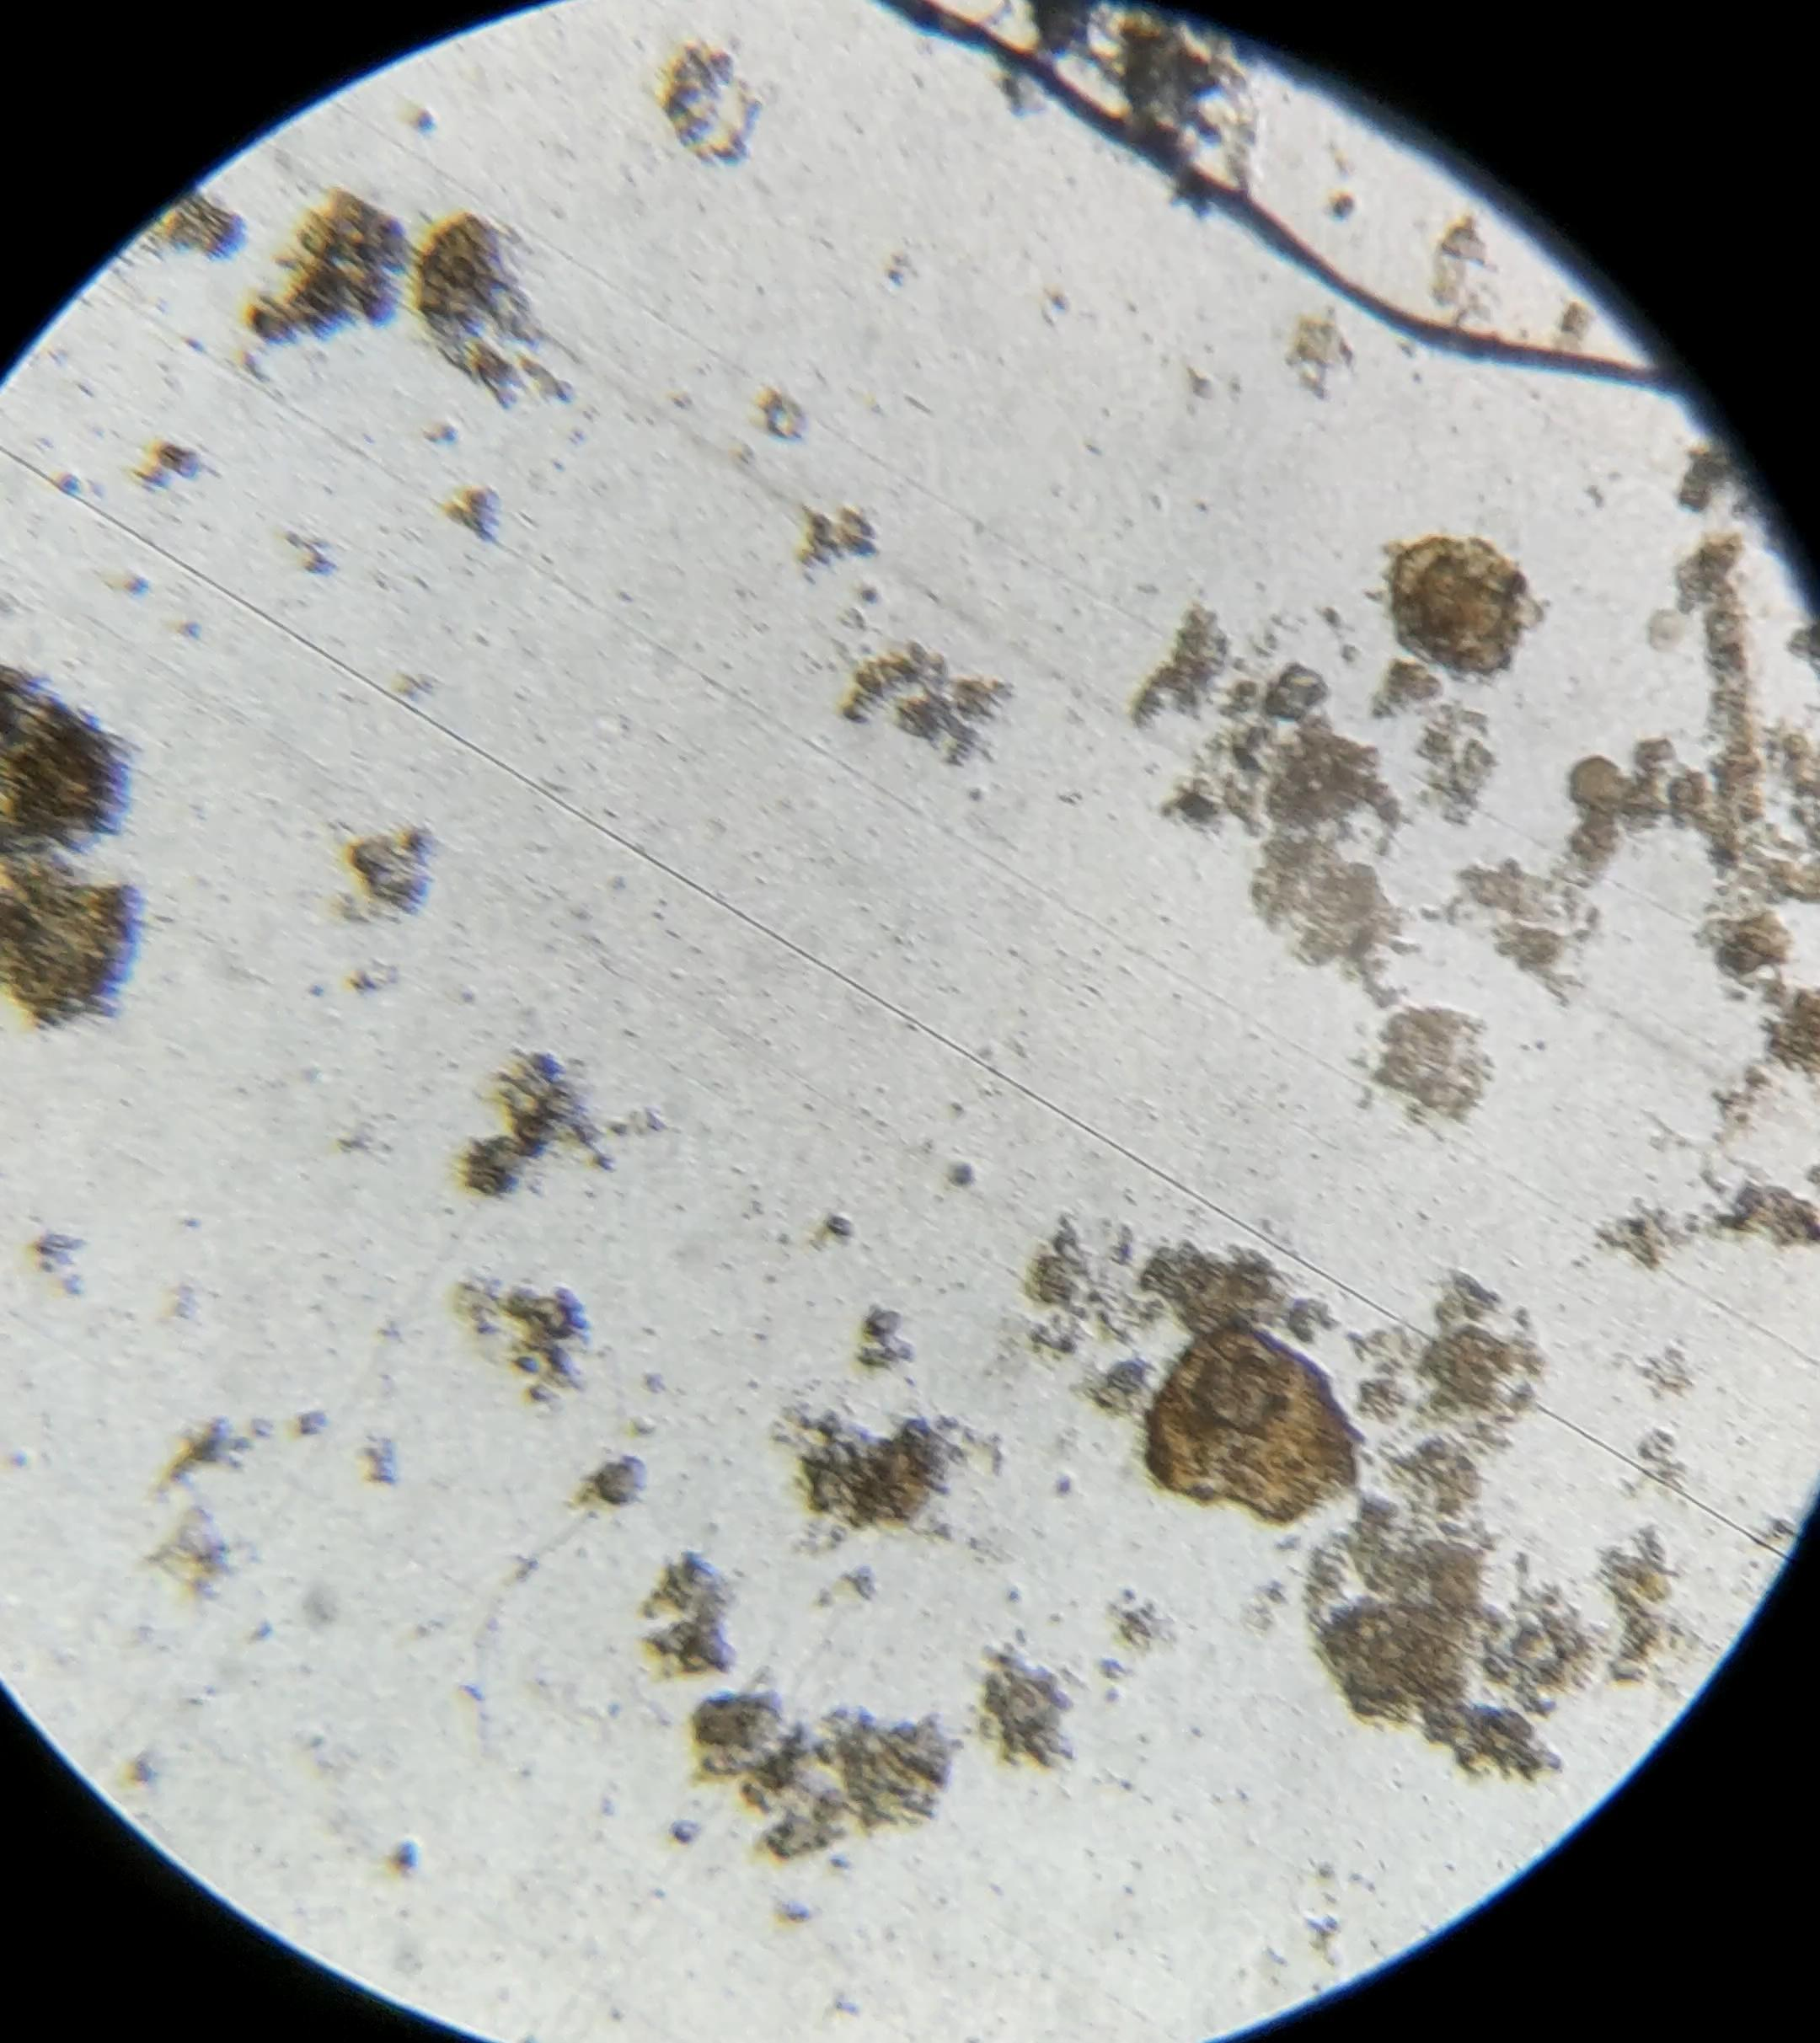Arcella: (1151, 1323, 1358, 1520)
